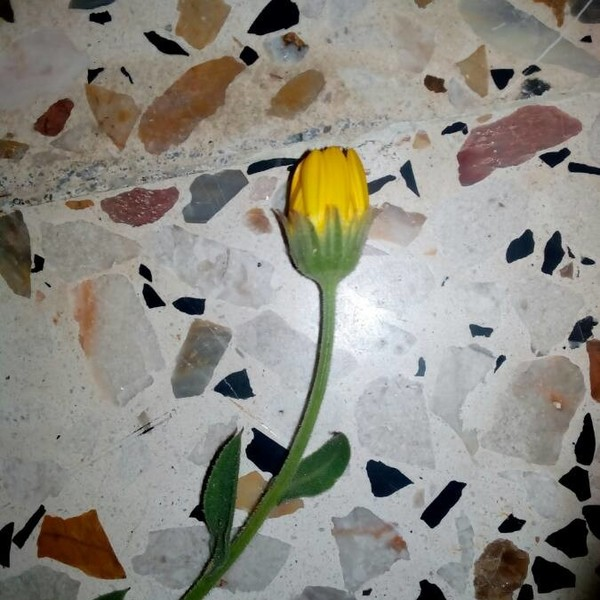obstacle: (207, 124, 380, 580)
